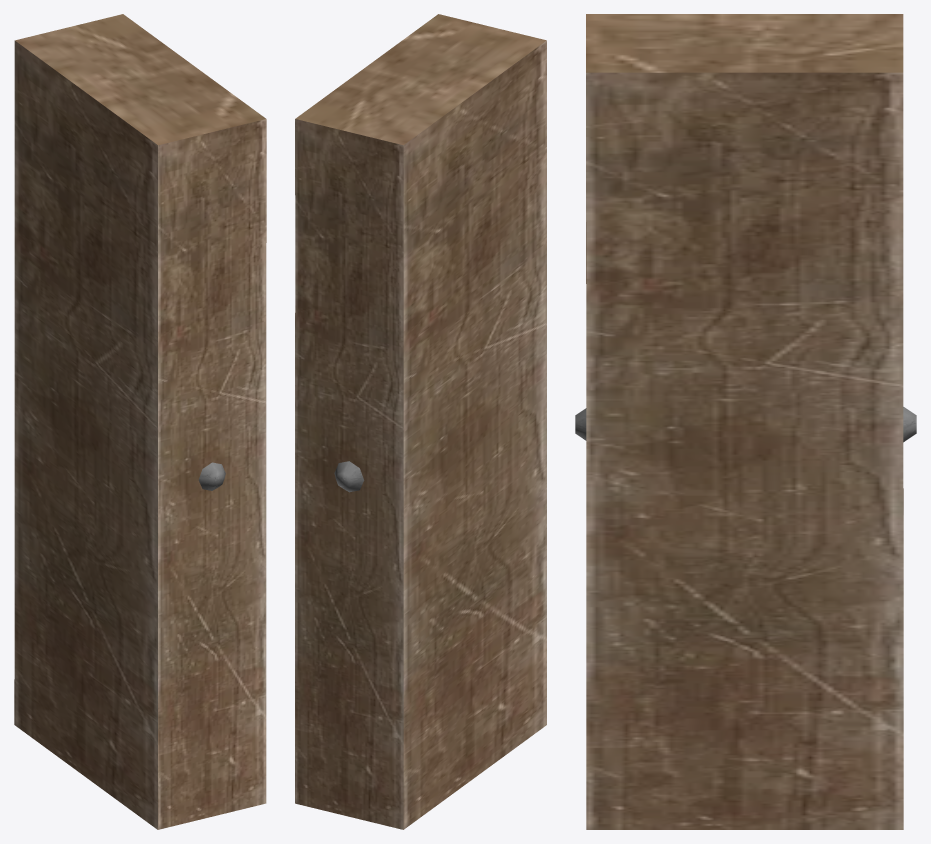
3 views of the same model, side by side, from view 1: azimuth 30°, elevation 25°; view 2: azimuth 150°, elevation 25°; view 3: azimuth 270°, elevation 25° (orthographic). The views are drawn at different scales.
Parts seen in each view (by area): view 1: SM_BB_T3_Beam_Thin_Med_Vertical_LOD0; view 2: SM_BB_T3_Beam_Thin_Med_Vertical_LOD0; view 3: SM_BB_T3_Beam_Thin_Med_Vertical_LOD0.
Boxes of the visible parts, box(x1,y1,x2,y2) form: SM_BB_T3_Beam_Thin_Med_Vertical_LOD0: box(14, 14, 266, 829); SM_BB_T3_Beam_Thin_Med_Vertical_LOD0: box(295, 14, 546, 829); SM_BB_T3_Beam_Thin_Med_Vertical_LOD0: box(575, 14, 916, 829).
Bounding box in the file's own units: 0.2505 × 1.51 × 0.6161.
Materials: 1 (1 with a texture image).
